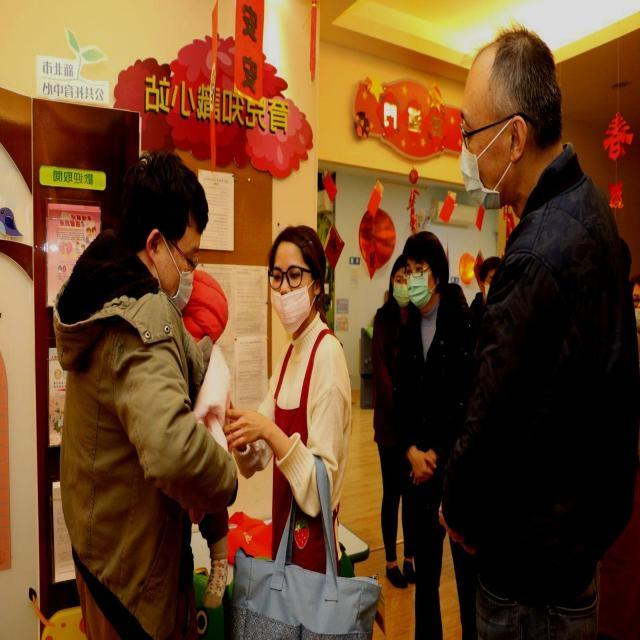hairnet: (270, 278, 317, 334)
